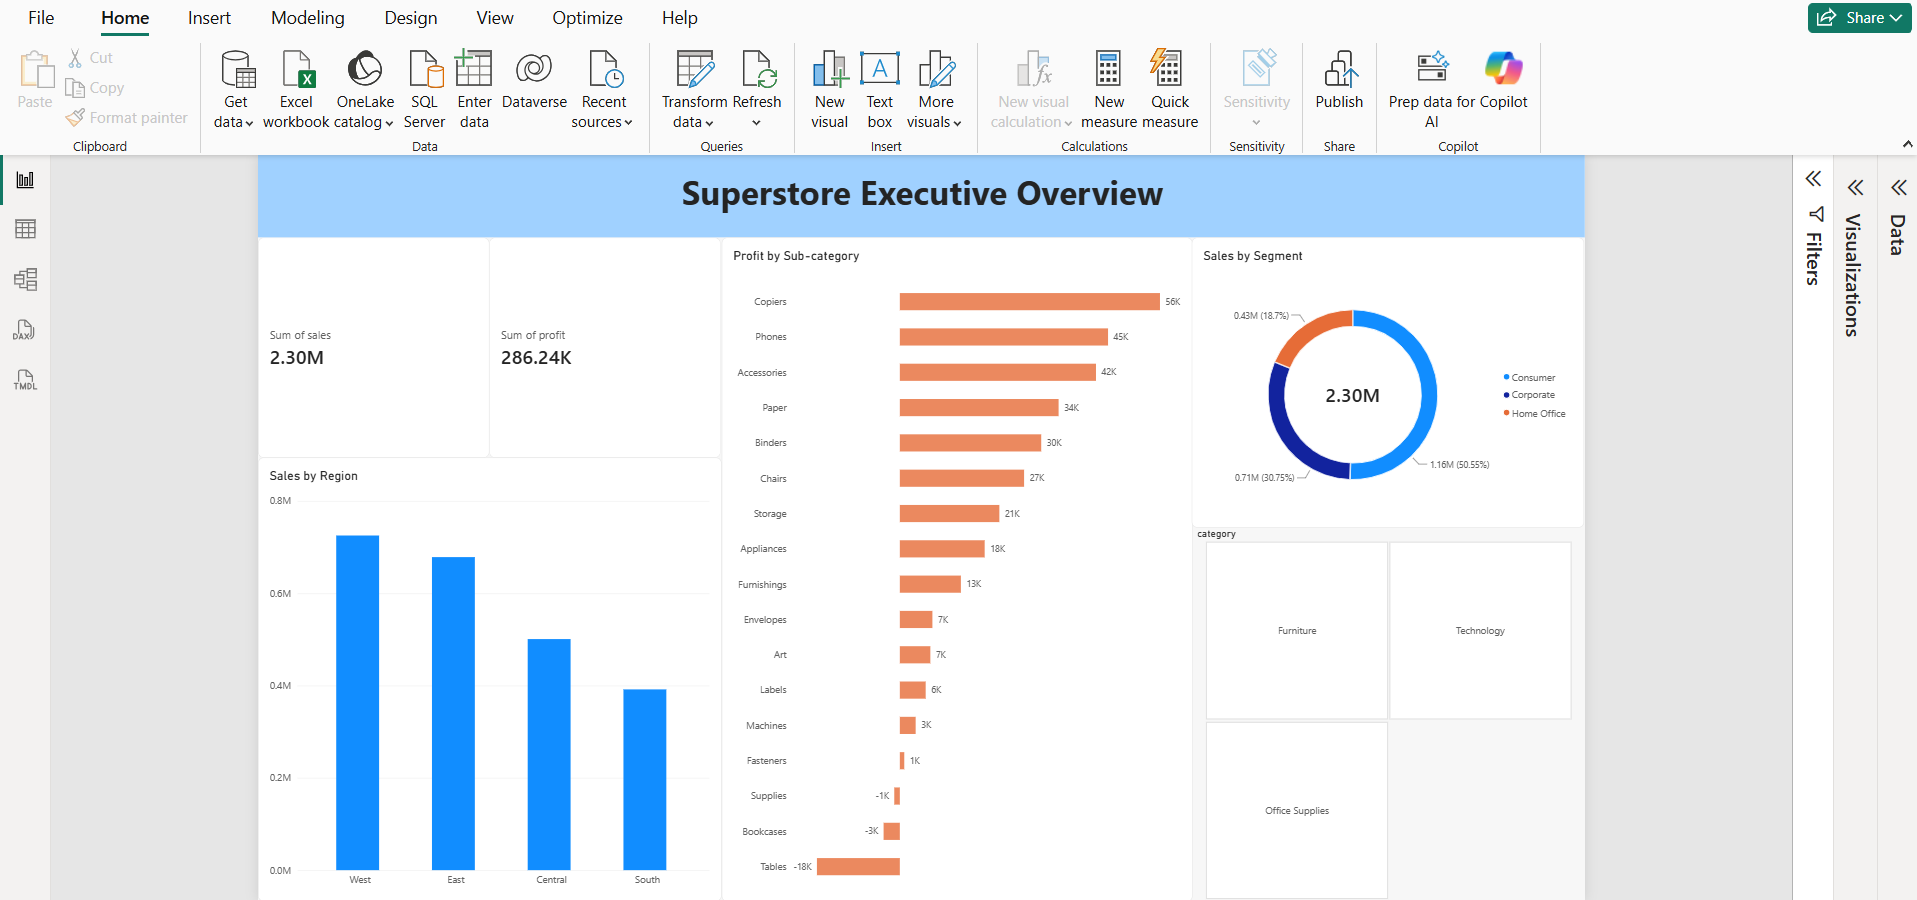

The page's visual inventory and layout, read from the dashboard file:
{"tool":"powerbi","page":{"name":"Page 1","canvas":[1920,1080],"ordinal":0},"visuals":[{"type":"cardVisual","title":"Sales","fields":{"Data":["Sum(cleaned_superstore_data.sales)"]},"box":[0,119.4,335.5,319],"z":0},{"type":"cardVisual","fields":{"Data":["Sum(cleaned_superstore_data.profit)"]},"box":[335.5,119.4,335.5,319],"z":1000},{"type":"clusteredColumnChart","title":"Sales by Region","fields":{"Category":["cleaned_superstore_data.region"],"Y":["Sum(cleaned_superstore_data.sales)"]},"box":[0,438.4,671,642.2],"z":2000},{"type":"textbox","box":[0,0,1920.4,119.4],"z":2001},{"type":"clusteredBarChart","title":"Profit by Sub-category","fields":{"Category":["cleaned_superstore_data.sub_category"],"Y":["Sum(cleaned_superstore_data.profit)"]},"box":[671,119.4,681.3,961.2],"z":2002},{"type":"donutChart","title":"Sales by Segment","fields":{"Category":["cleaned_superstore_data.segment"],"Y":["Sum(cleaned_superstore_data.sales)"]},"box":[1352.3,119.4,568.1,419.9],"z":2003},{"type":"slicer","fields":{"Values":["cleaned_superstore_data.category"]},"box":[1352,540,568.4,540],"z":2004}]}

Visuals, with their boxes on the page's 1920x1080 design canvas (x1, y1, x2, y2). These are canvas units, not pixel positions in the 1917x900 screenshot, which may show the page scaled, cropped or inside an application window:
"Sales" cardVisual: Rect(0, 119, 336, 438)
cardVisual - Sum(cleaned_superstore_data.profit): Rect(336, 119, 671, 438)
"Sales by Region" clusteredColumnChart: Rect(0, 438, 671, 1081)
textbox: Rect(0, 0, 1920, 119)
"Profit by Sub-category" clusteredBarChart: Rect(671, 119, 1352, 1081)
"Sales by Segment" donutChart: Rect(1352, 119, 1920, 539)
slicer - cleaned_superstore_data.category: Rect(1352, 540, 1920, 1080)
